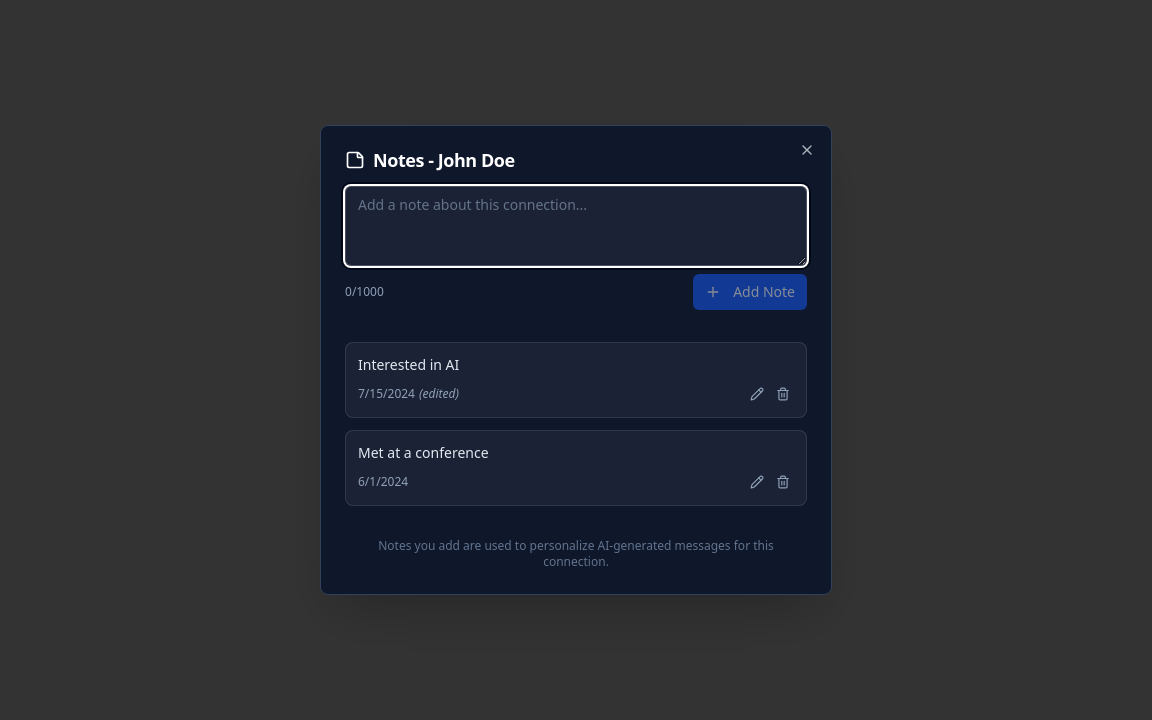
ConnectionNotesModal › should enter edit mode when edit button is clicked
Click the button with test id "edit-note-button" in the row of "(edited)". click: (757,394)
box: [746,383,768,405]
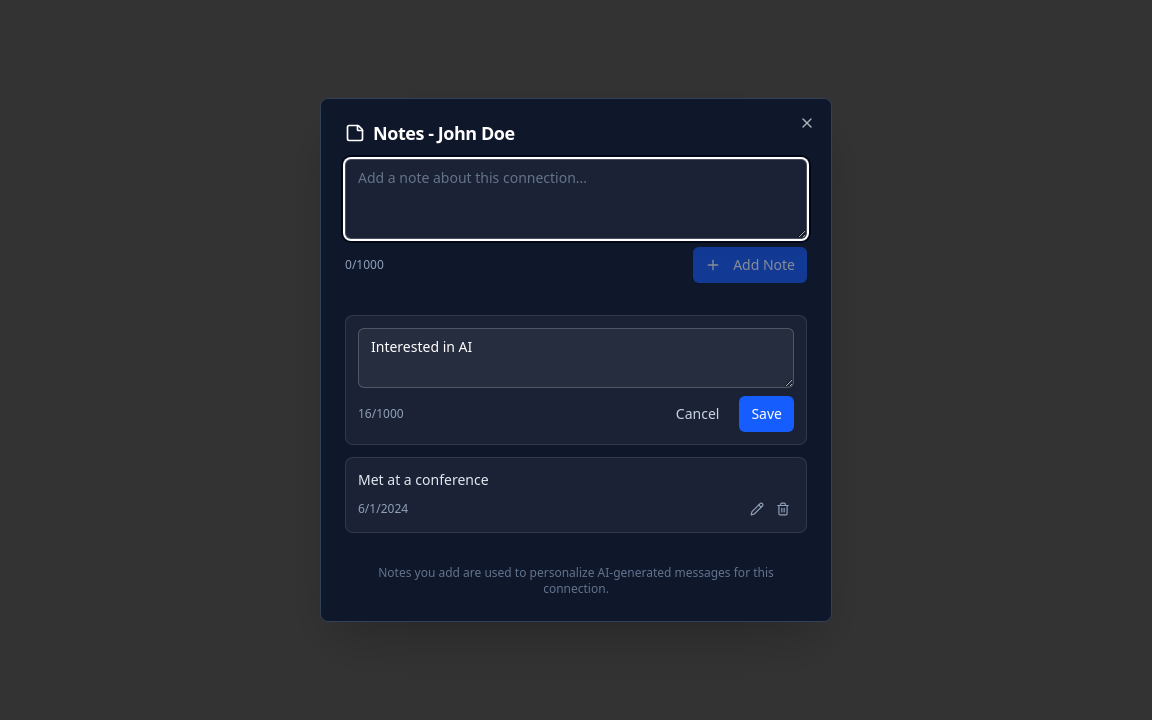
Expected: the text box with test id "edit-note-input" is shown, [358,328,794,388]
Expected: the button with test id "save-edit-button" is shown, [739,396,794,432]
